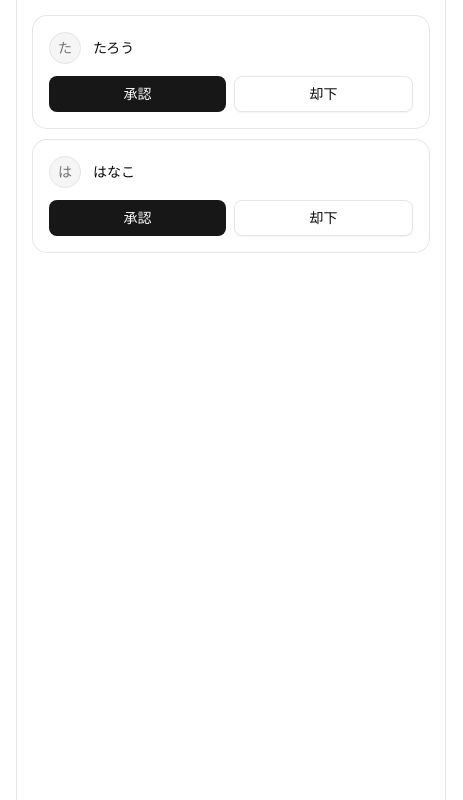
Scenario: JoinRequestListPage › 承認すると一覧から即座に取り除かれる（楽観的更新）
Expected: the text "たろう" is shown, [93, 39, 134, 56]
Note: たろうが一覧の先頭のため、最初の「承認」ボタンがたろうのカードのもの
Click the button "承認" below "たろう".
click(138, 94)  # box [49, 76, 226, 112]
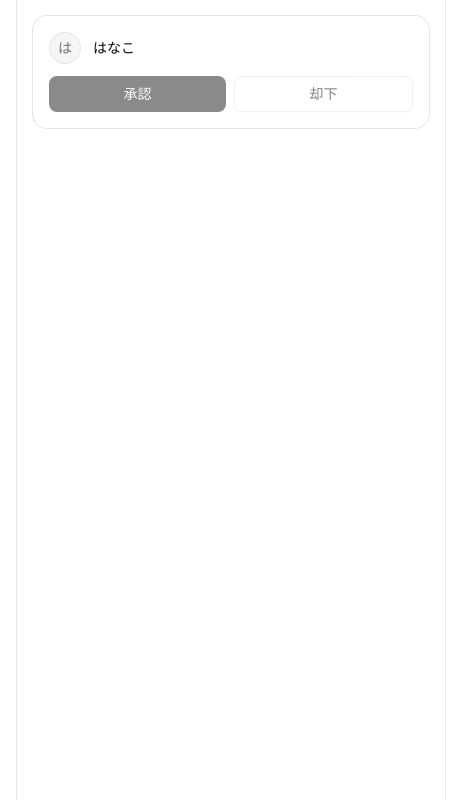
Expected: the text "はなこ" is shown, [93, 39, 135, 56]
Expected: the text "たろう" is gone
